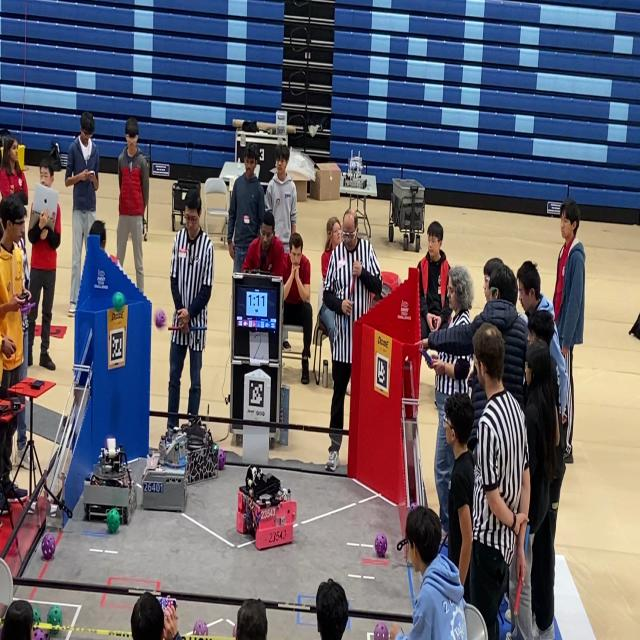artifact_green: (107, 509, 120, 533), (47, 606, 62, 626), (112, 292, 125, 311), (33, 608, 41, 624)
artifact_purple: (41, 533, 56, 561), (375, 534, 387, 557), (374, 622, 389, 639), (193, 620, 208, 635), (155, 310, 166, 329), (218, 450, 226, 470), (33, 629, 46, 639), (410, 503, 418, 510), (233, 626, 236, 638)
